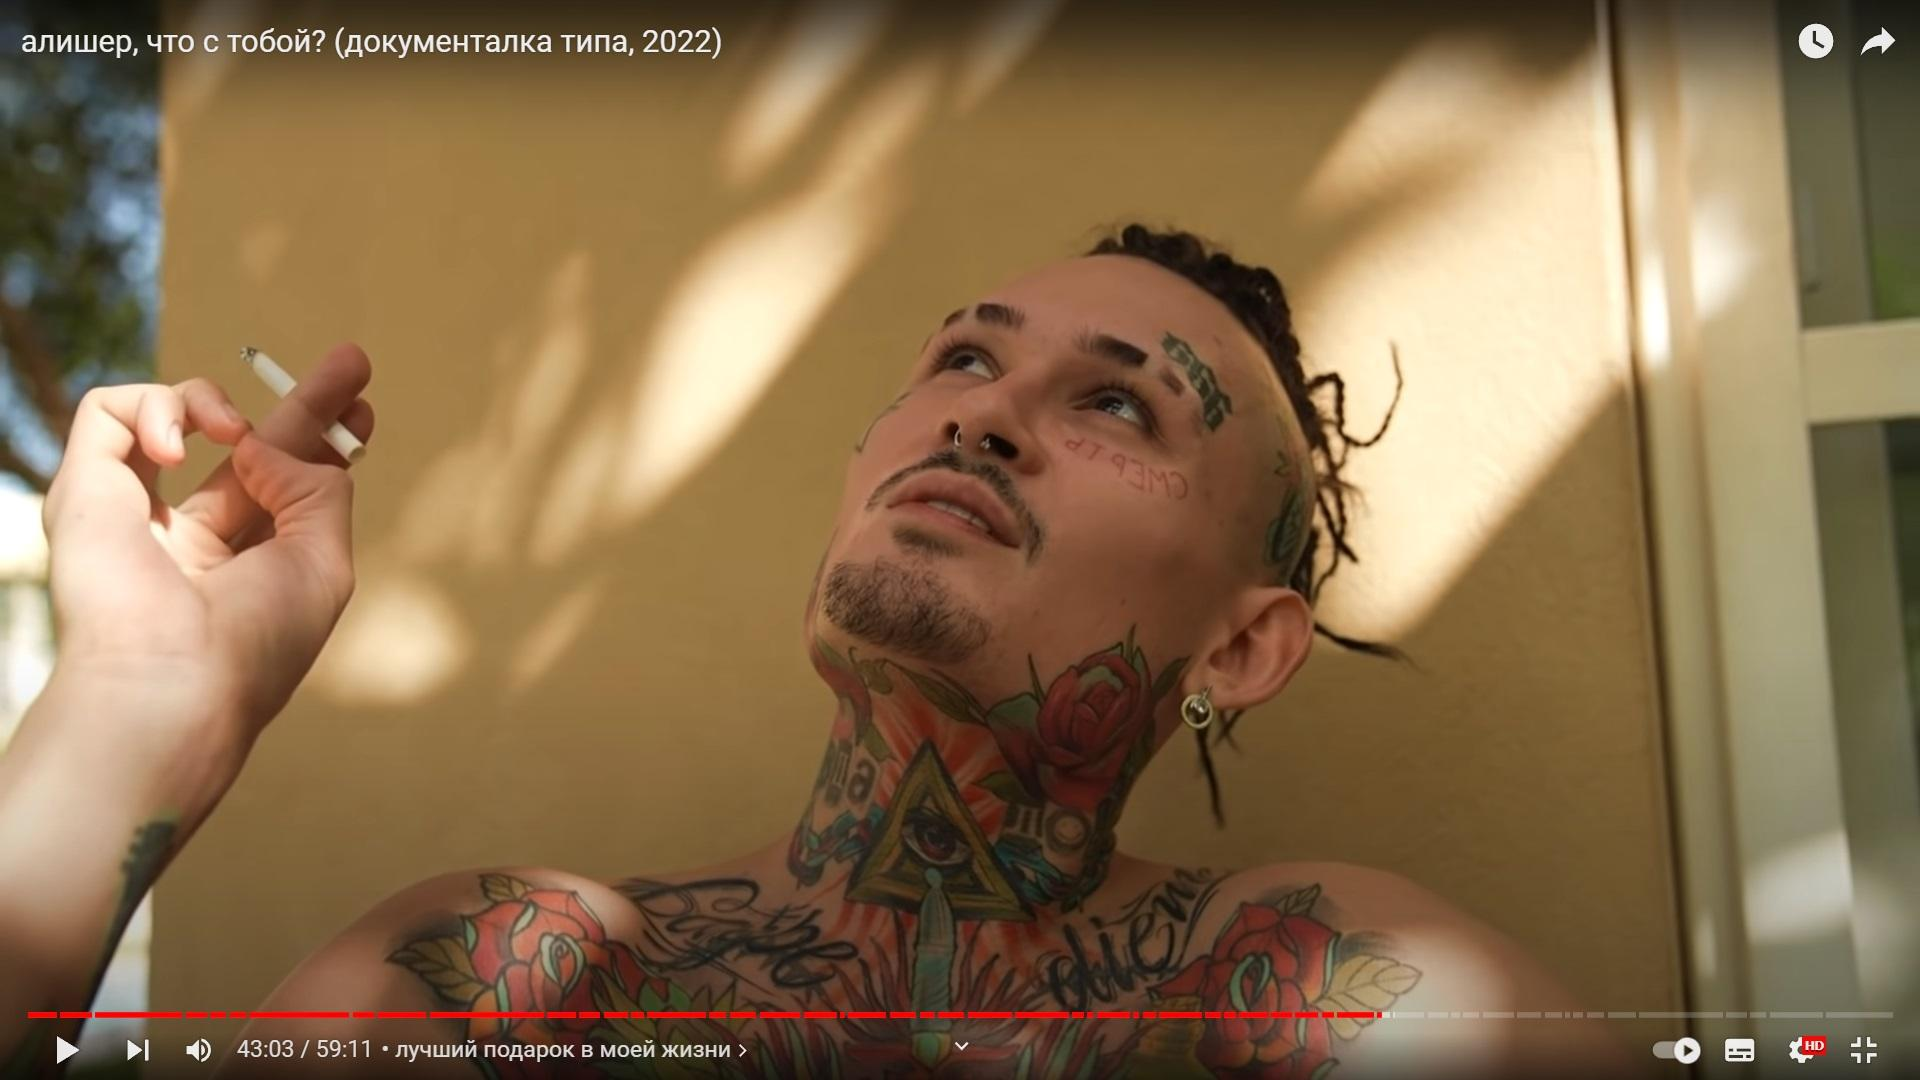cigarette: (239, 345, 368, 465)
